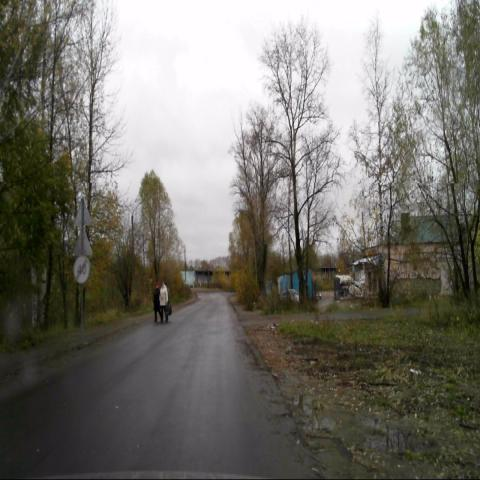3_25: (74, 256, 90, 284)
